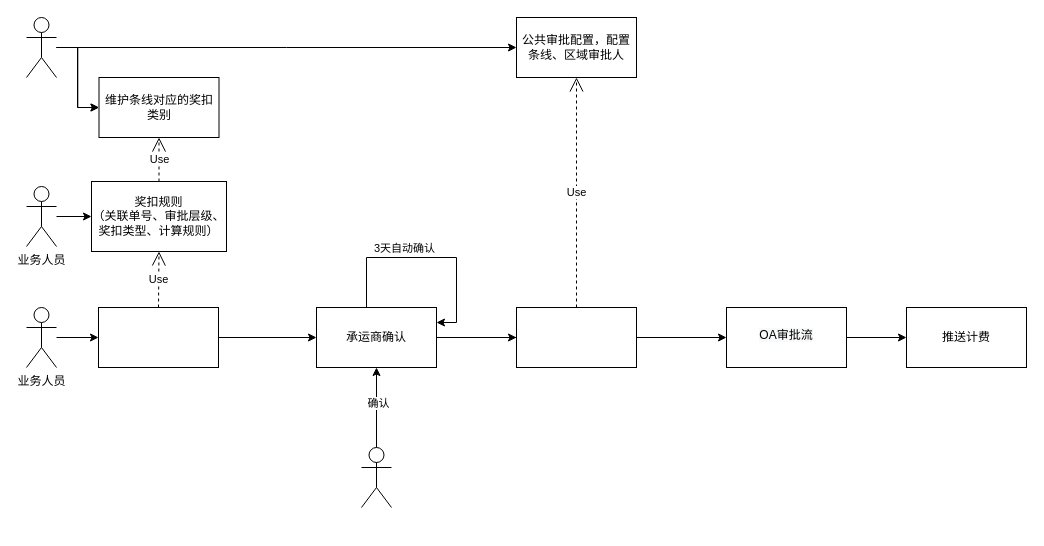
Image size: 1044x546. Some labels were removed from this diagram. Here are the shapes that lost their labels. From the top down, the centre of each, then its label:
pixel 41 47: 系统运营
pixel 158 337: 奖扣明细
pixel 576 337: 提交审批
pixel 376 477: 承运商
